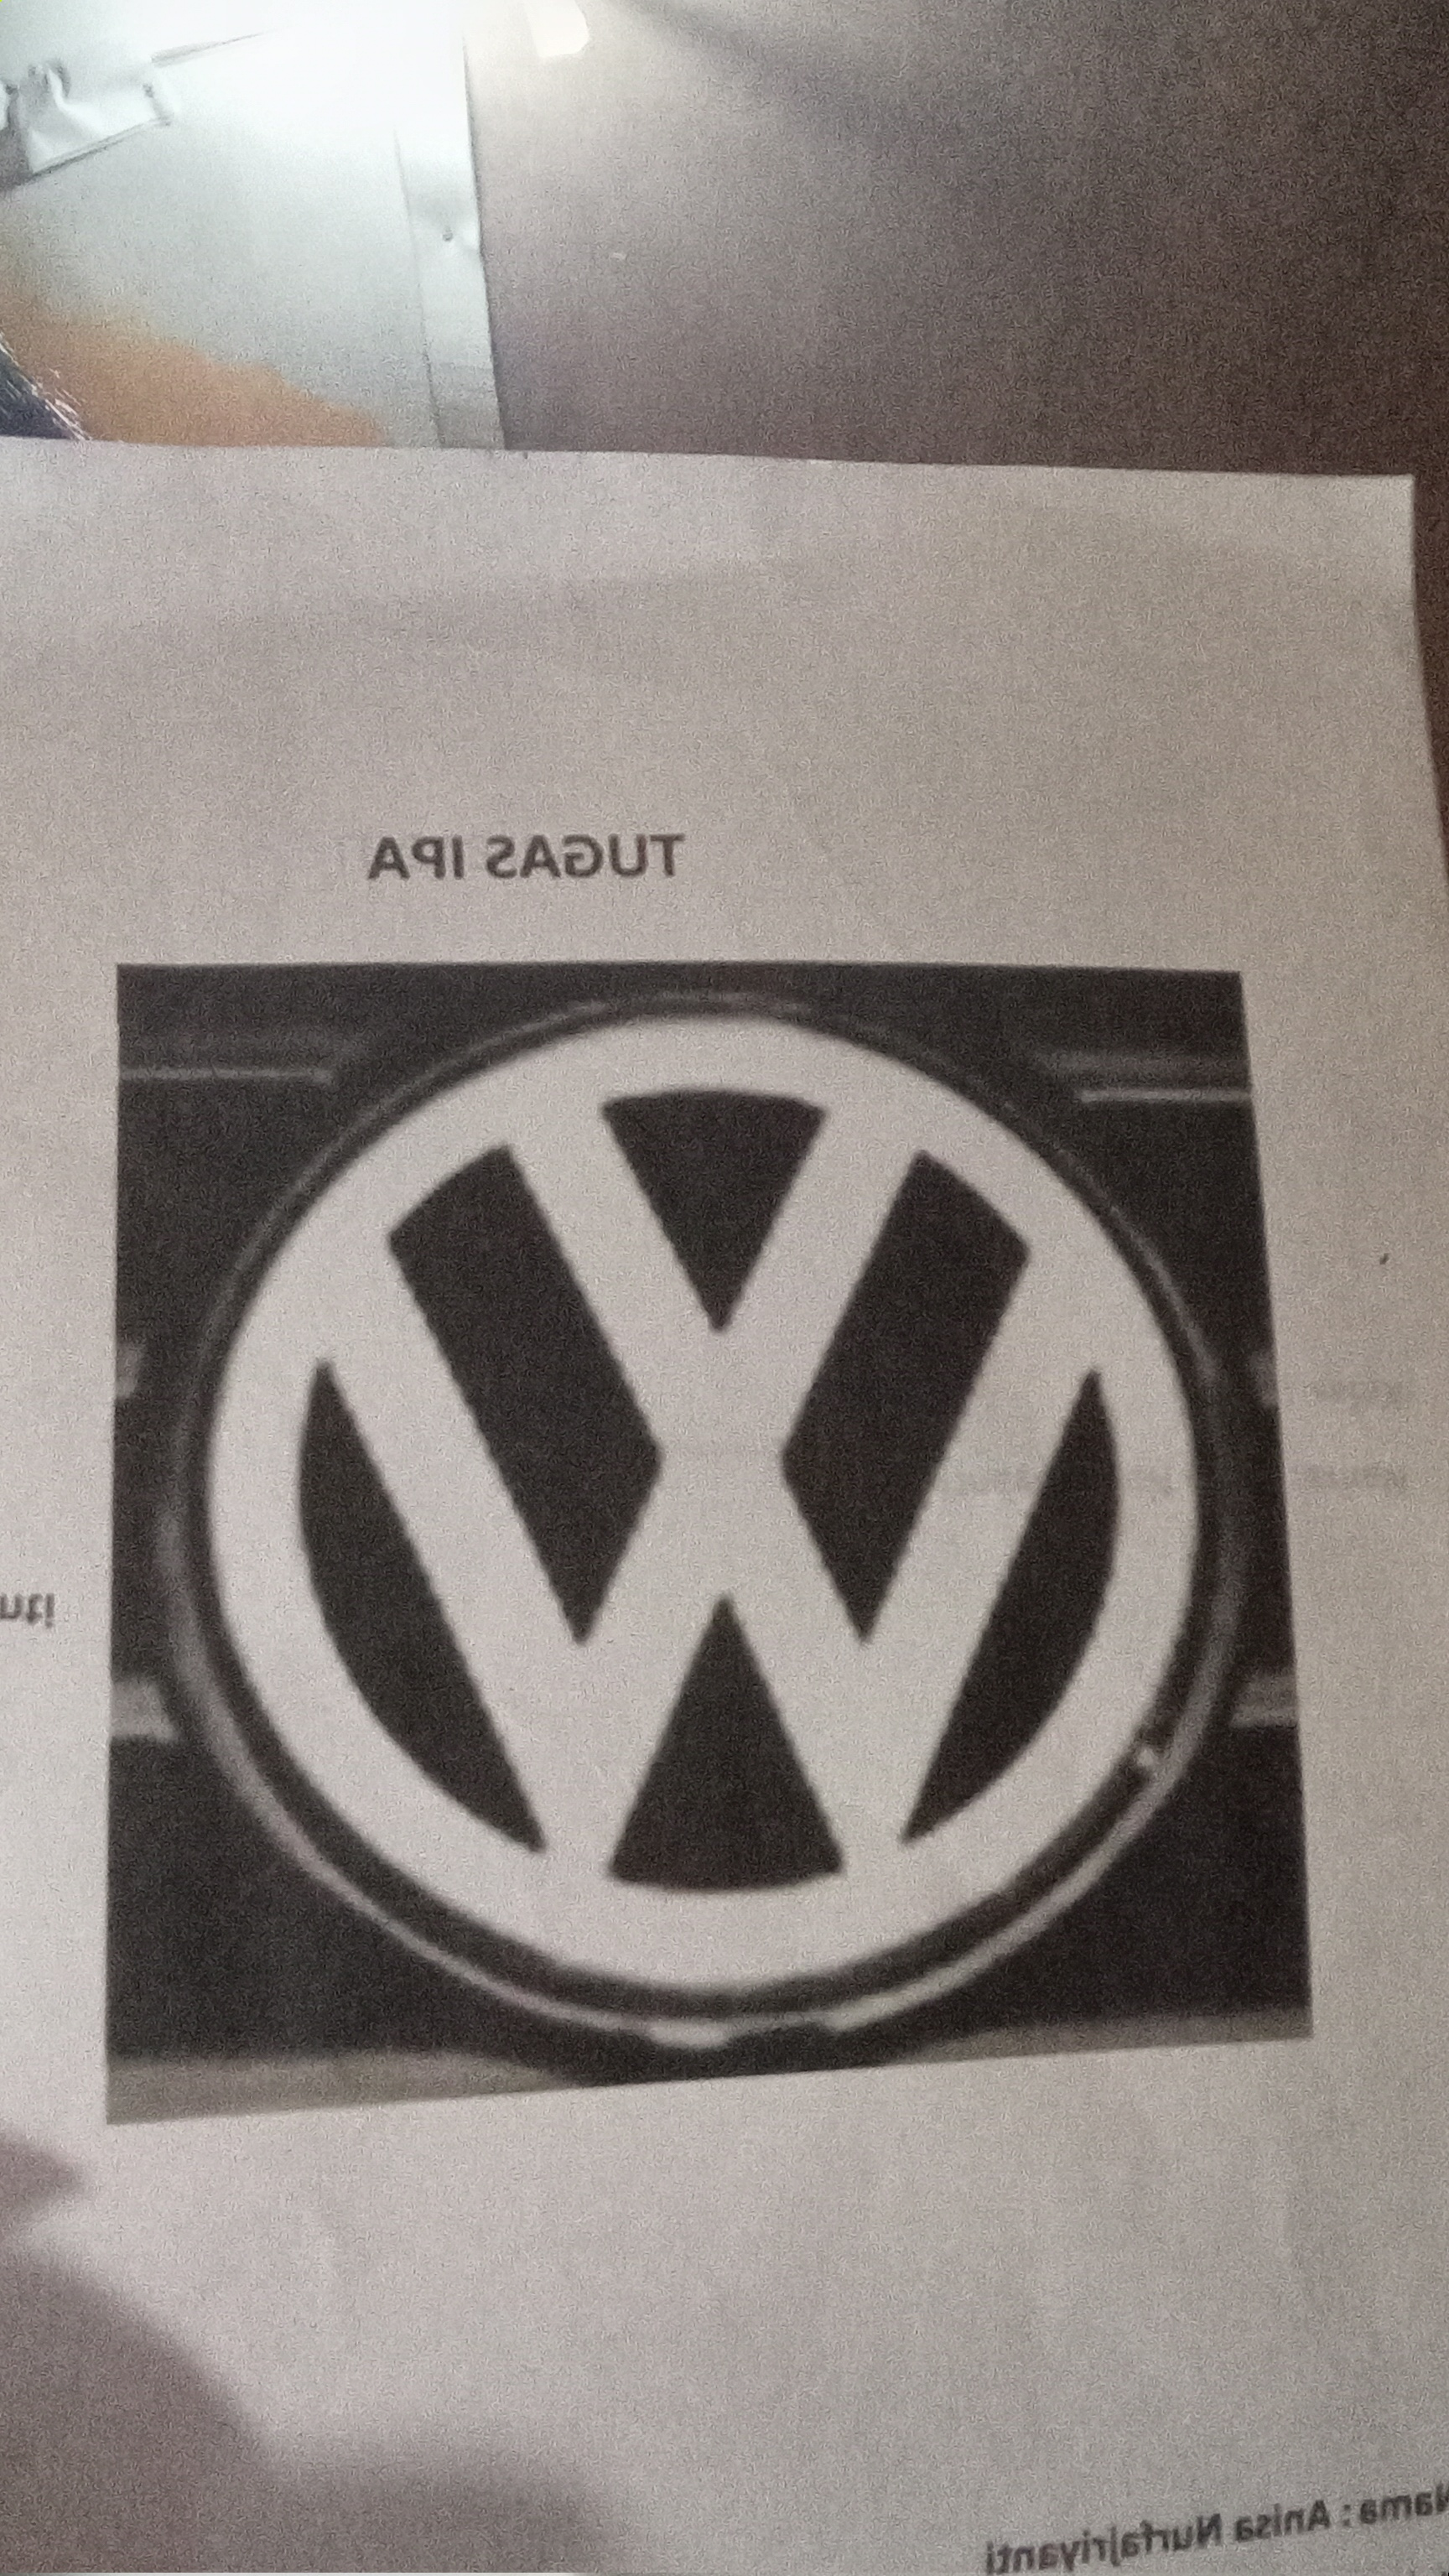Volkswagen: (122, 975, 1277, 2058)
